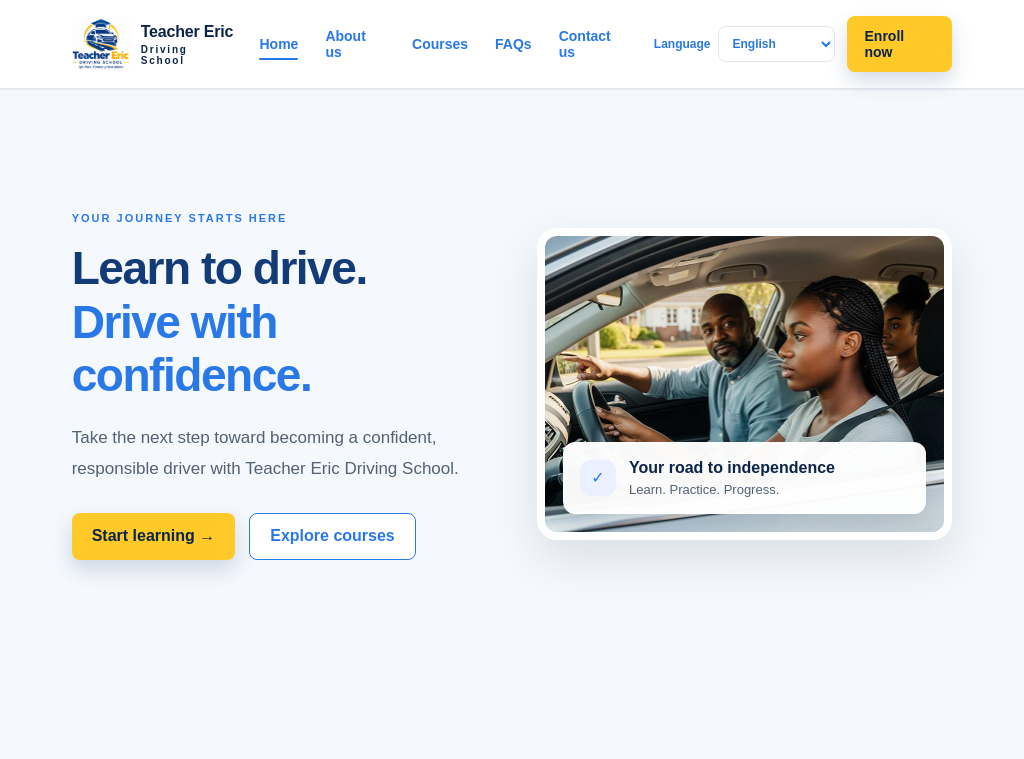
Test case: public and administrator routes › navigates from the shared header to the dedicated courses page
Click the link "Courses" at (440, 44), box top-left (412, 28), bottom-right (468, 60)
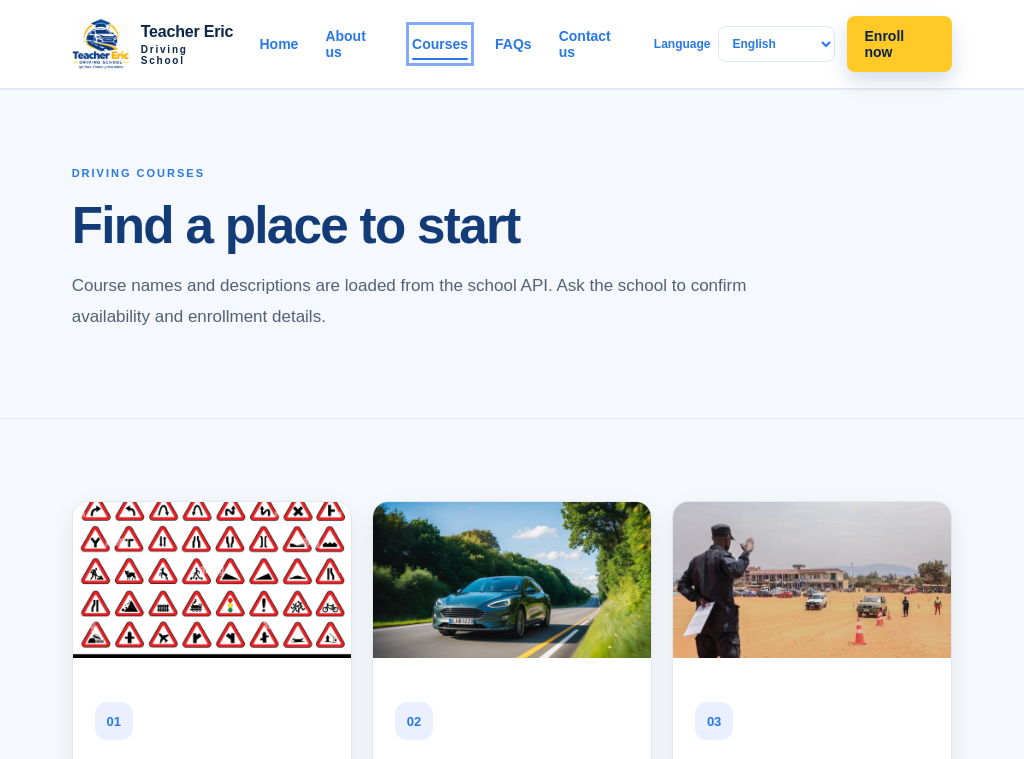
Now the heading "Find a place to start" is shown, box top-left (72, 197), bottom-right (520, 254)
